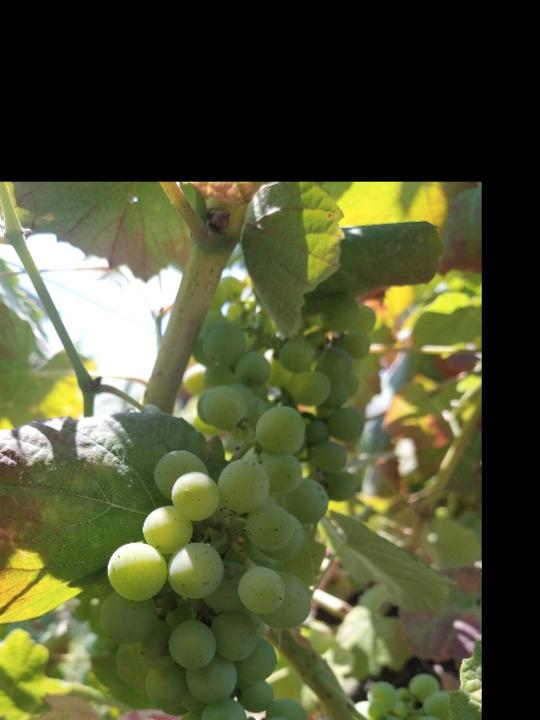grape: (104, 403, 332, 720)
